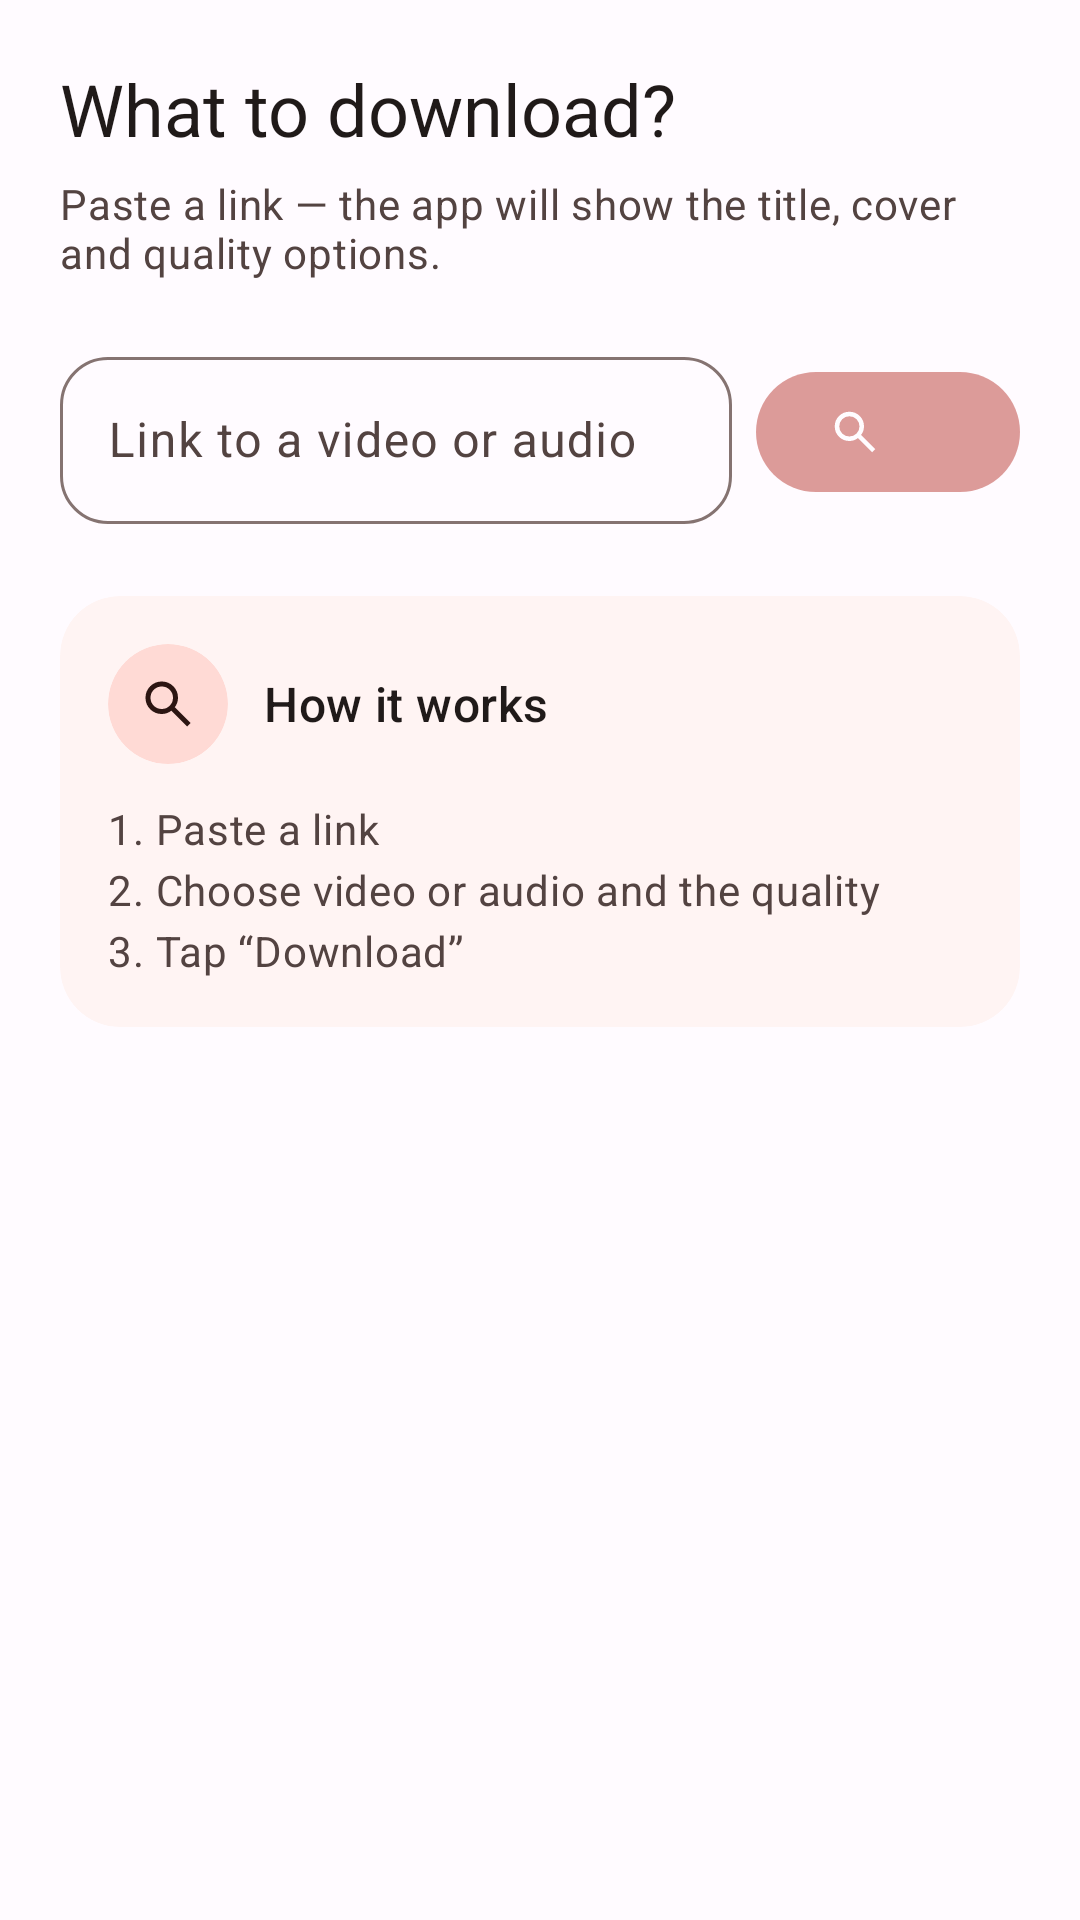

Screen size 1080 x 1920. Icon name, then its box in pixels as (x1, y1, x2, y2):
Search: (756, 372, 1020, 492)
